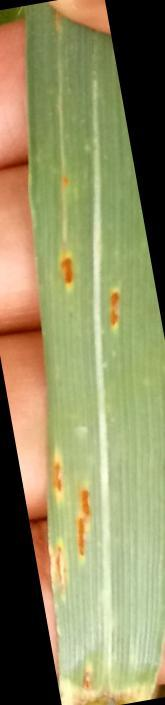Wheat: (49, 244, 145, 345), (71, 466, 96, 551)
